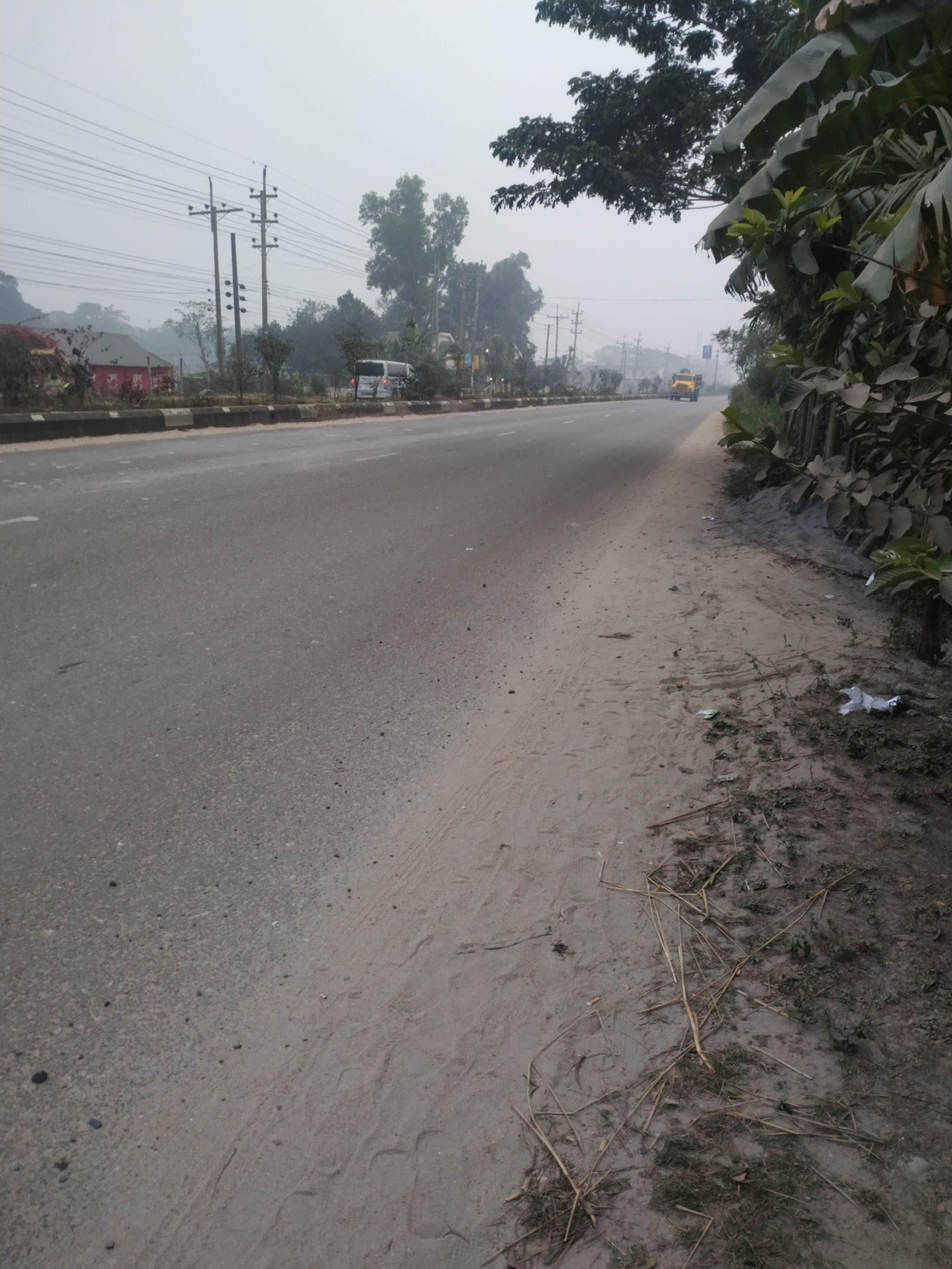Car: (352, 346, 430, 408)
Truck: (664, 362, 714, 411)
